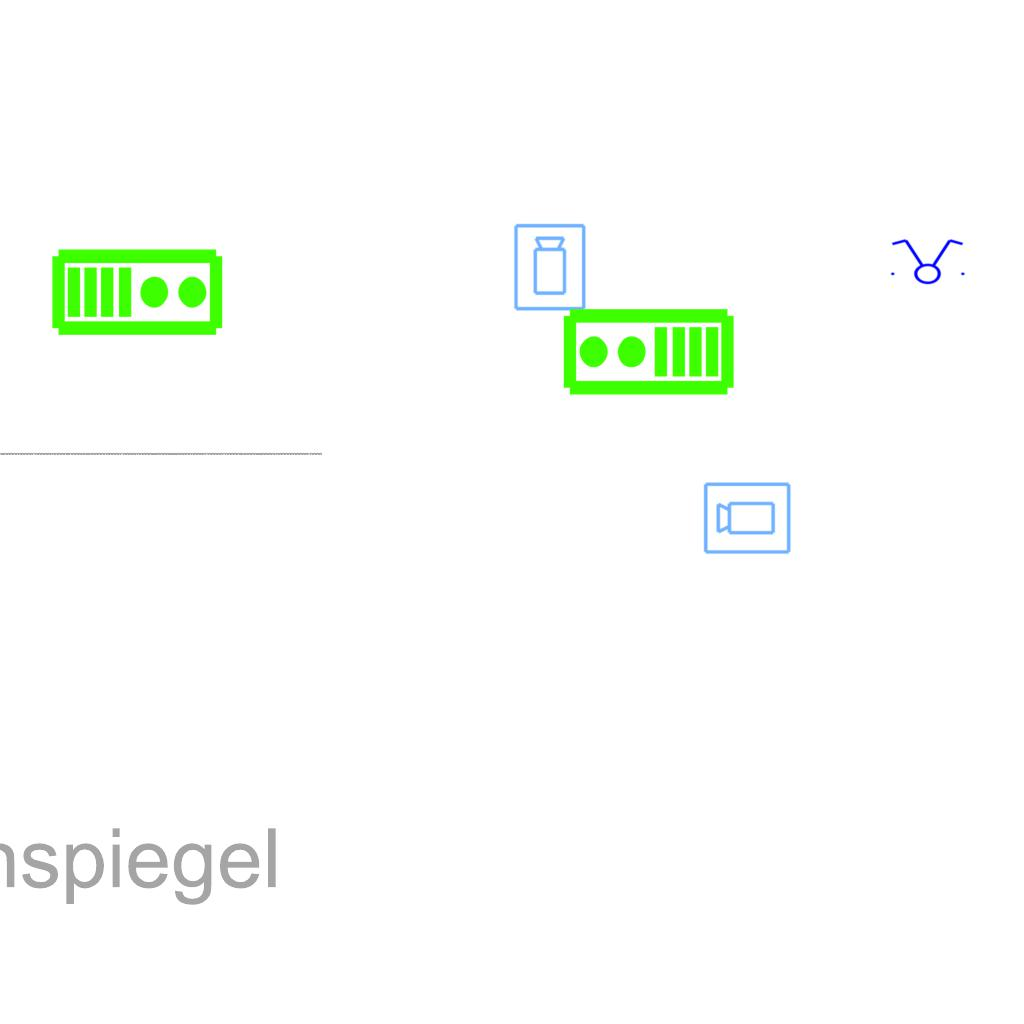Gegensprechanlage_mit_Video: (560, 306, 736, 401), (50, 243, 226, 338)
KFO_Kamera_mit_Festobjektiv: (512, 222, 589, 313), (702, 479, 793, 556)
Serienschalter: (885, 237, 969, 285)
